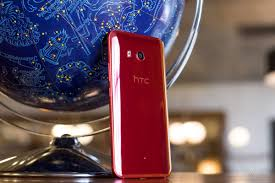htc: (103, 32, 175, 180)
